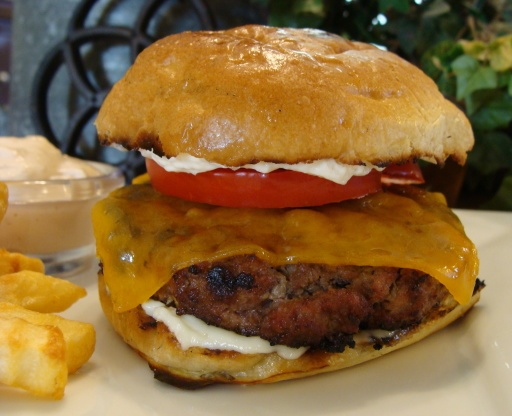background: (72, 15, 389, 253), (0, 116, 78, 259)
